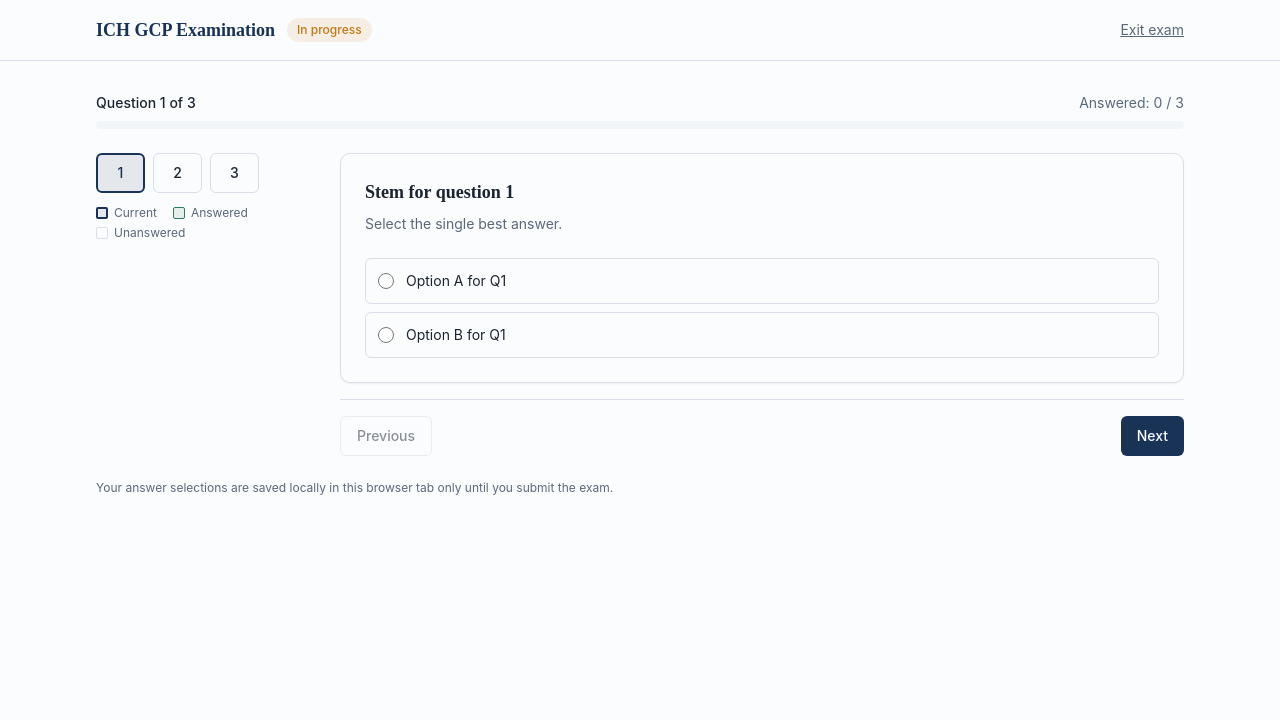
Test: Exam attempt page › updates the progress indicator from local answer state
expect the heading "Stem for question 1" is shown: met, box [365, 182, 514, 202]
expect the text "Answered: 0 / 3" is shown: met, box [1079, 93, 1184, 113]
Click the radio button labelled "Option A for Q1" at (386, 281), box [378, 273, 394, 289]
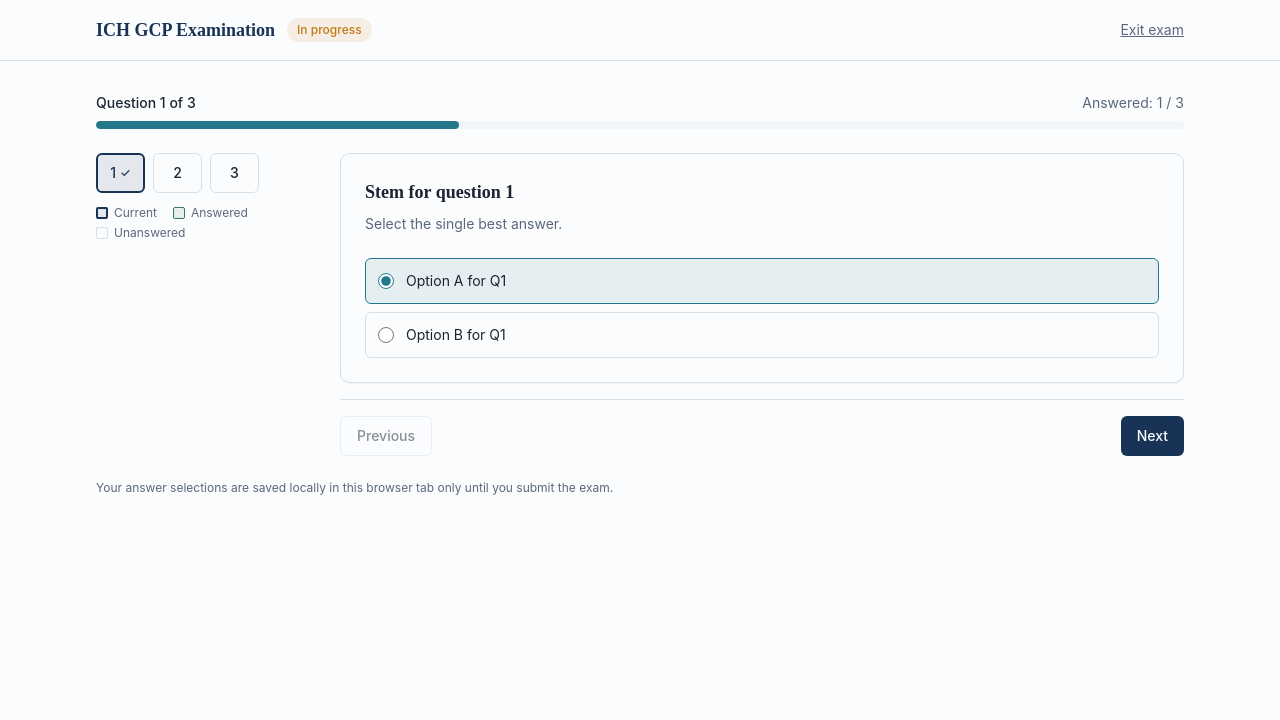
expect the text "Answered: 1 / 3" is shown: met, box [1082, 93, 1184, 113]
